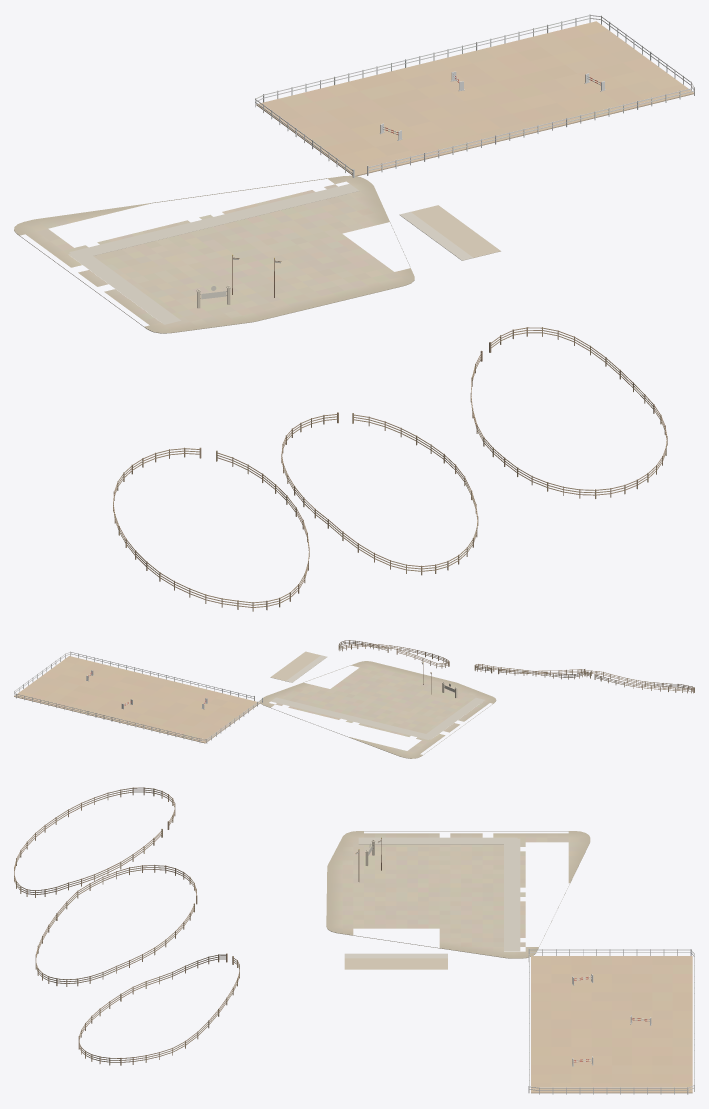
The model's file is SM_BM_BE_3_Grounds.glb.
The picture shows the model from 3 angles, top to bottom: view 1: azimuth 30°, elevation 25°; view 2: azimuth 150°, elevation 25°; view 3: azimuth 270°, elevation 25°; orthographic projection. The views are drawn at different scales.
Visible parts, largest first — view 1: SM_BM_BE_3_Grounds; view 2: SM_BM_BE_3_Grounds; view 3: SM_BM_BE_3_Grounds.
Boxes of the visible parts, x1,y1,x2,y2 form: SM_BM_BE_3_Grounds: (14, 14, 694, 611); SM_BM_BE_3_Grounds: (14, 640, 694, 758); SM_BM_BE_3_Grounds: (14, 787, 694, 1094).
Size of the model in its own units: 148 by 27.73 by 126.
